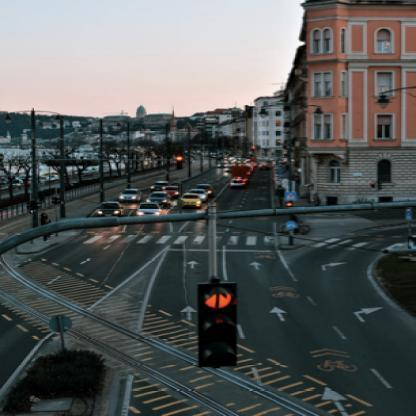Red Light: (196, 285, 242, 372), (174, 154, 186, 172)
